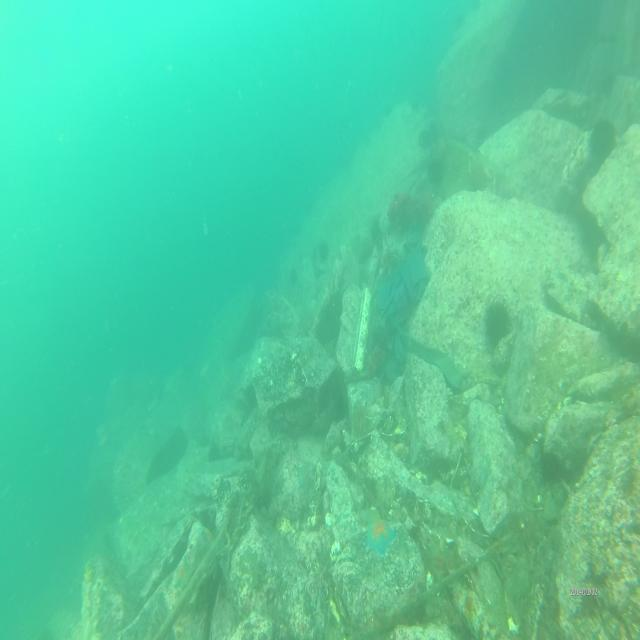echinus: (481, 296, 513, 348), (590, 116, 616, 167), (540, 449, 564, 488)
starfish: (364, 513, 396, 562)
